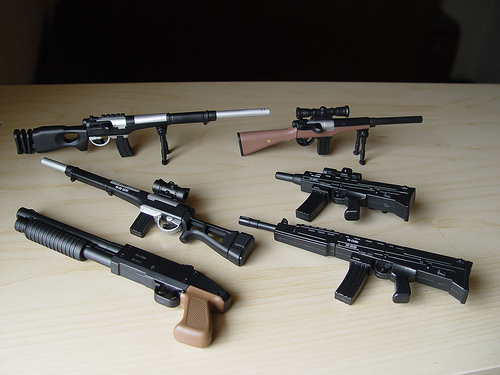rifle: (13, 214, 219, 346), (251, 216, 476, 319), (17, 103, 270, 169), (241, 105, 467, 159), (259, 165, 450, 209)
